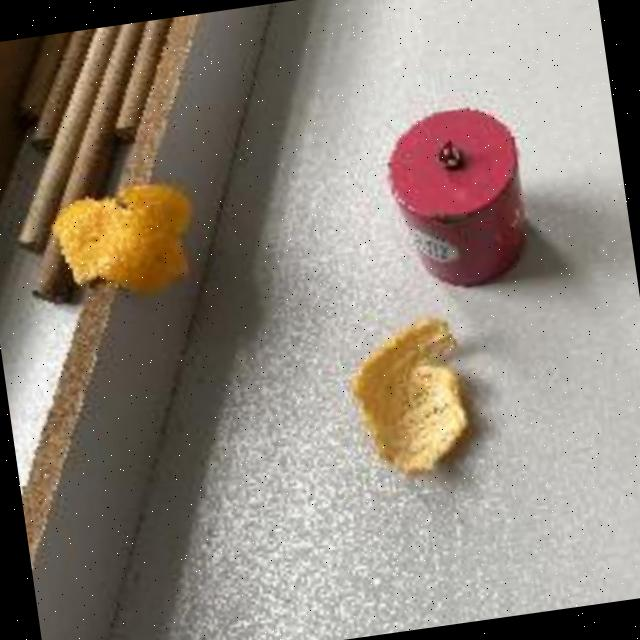orange-peel: (340, 310, 480, 483), (44, 172, 205, 308)
